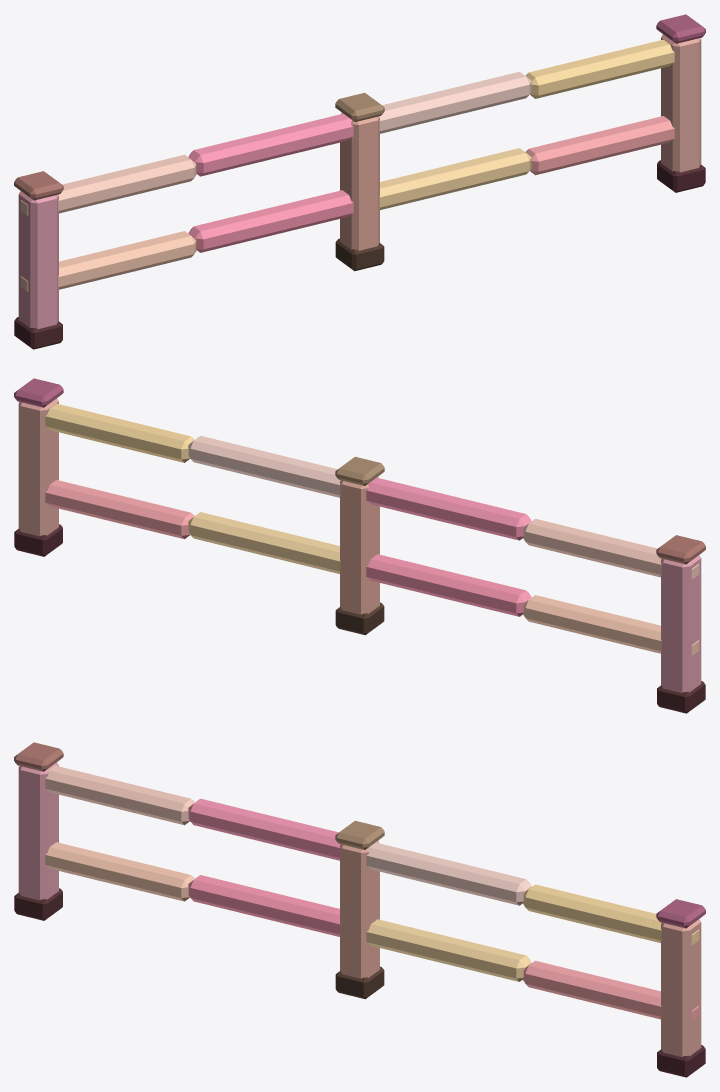
Rendered from WC_RIVER_Bridge_Rail_A.glb.
The picture shows the model from 3 angles, top to bottom: view 1: azimuth 30°, elevation 25°; view 2: azimuth 150°, elevation 25°; view 3: azimuth 330°, elevation 25°; orthographic projection.
Parts seen in each view (by area): view 1: WC_RIVER_Bridge_Rail_A_RenderMesh; view 2: WC_RIVER_Bridge_Rail_A_RenderMesh; view 3: WC_RIVER_Bridge_Rail_A_RenderMesh.
Boxes of the visible parts, <box> form: WC_RIVER_Bridge_Rail_A_RenderMesh: <box>14,14,705,349</box>; WC_RIVER_Bridge_Rail_A_RenderMesh: <box>14,378,705,713</box>; WC_RIVER_Bridge_Rail_A_RenderMesh: <box>14,742,705,1077</box>.
Bounding box in the file's own units: 3.43 × 0.7775 × 0.18.
